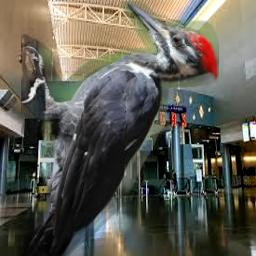Woodpecker: (21, 1, 219, 256)
